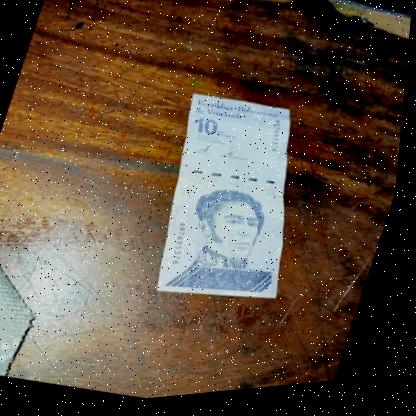ten-front-vef: (131, 85, 344, 329)
